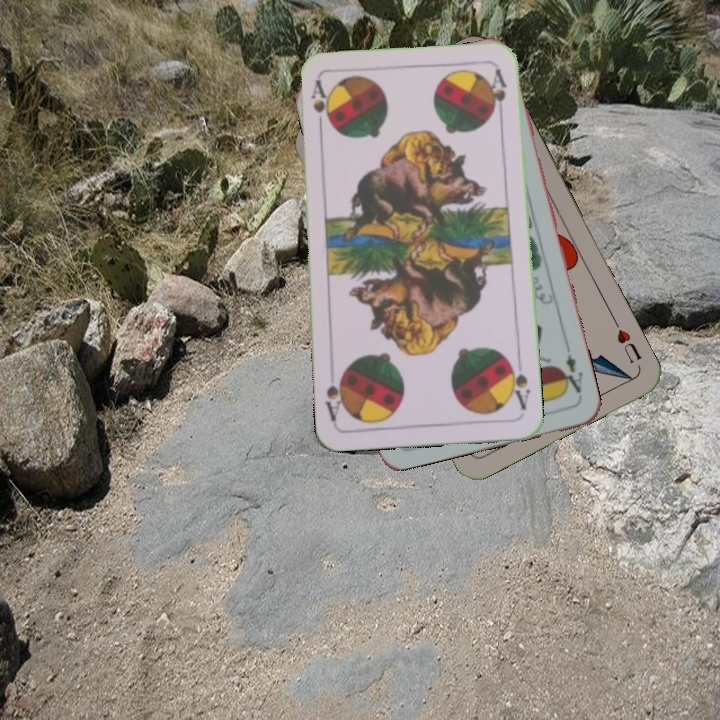EA: (556, 342, 586, 401)
HU: (609, 315, 644, 367)
SA: (505, 356, 533, 413), (307, 76, 332, 136)
